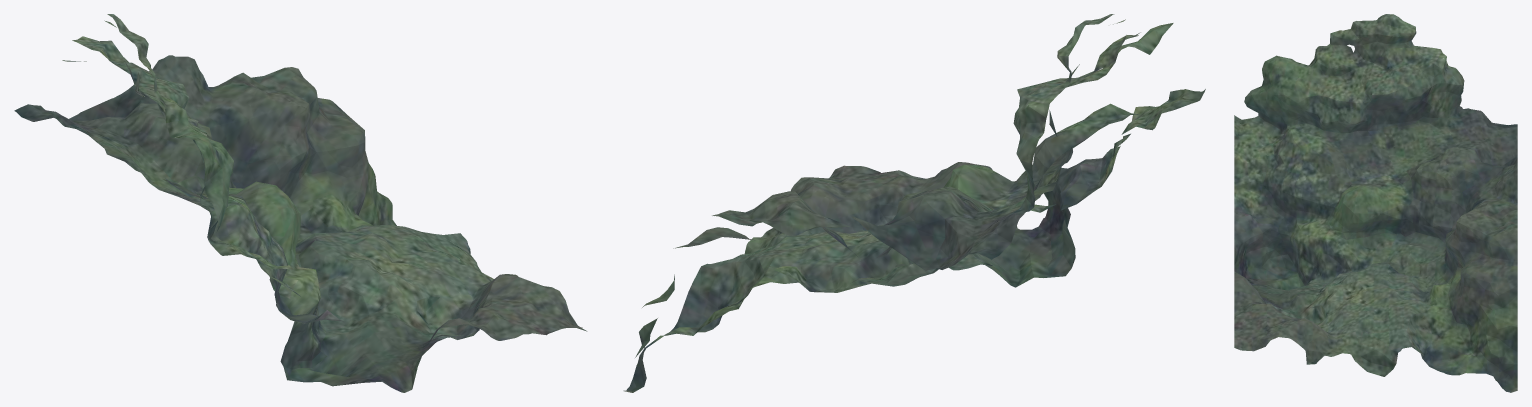
Rendered from Tile_+004_+004_L21_0001220.glb.
3 views of the same model, side by side, from view 1: azimuth 30°, elevation 25°; view 2: azimuth 150°, elevation 25°; view 3: azimuth 270°, elevation 25° (orthographic). The views are drawn at different scales.
Visible parts, largest first — view 1: rtc; view 2: rtc; view 3: rtc.
Part boxes in pixels (x1,y1,x2,y2): rtc: (14, 14, 587, 392); rtc: (623, 14, 1205, 392); rtc: (1234, 14, 1517, 392).
Size of the model in its own units: 12.63 by 12.75 by 12.63.
Materials: 1 (1 with a texture image).
